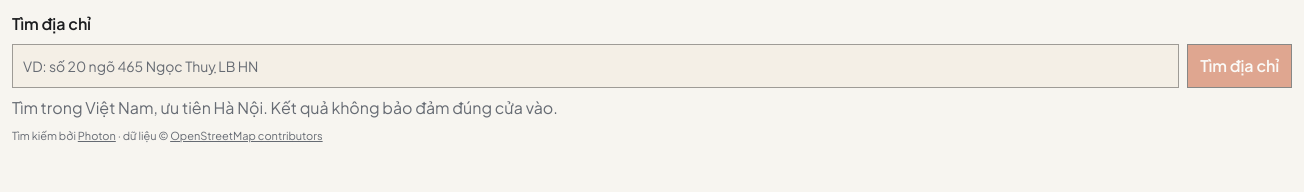
it: shows provider failure and allows retry without selecting anything
The image size is (1304, 192).
In the field labelled "Tìm địa chỉ": [596, 66] box [12, 44, 1179, 88], type "Ngọc Thụy"
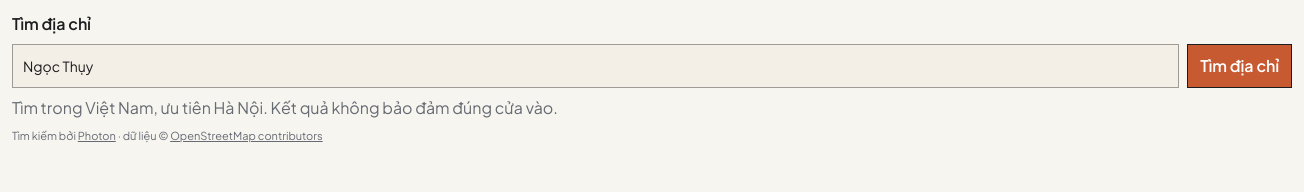
Click the button "Tìm địa chỉ": [1240, 66] box [1187, 44, 1292, 88]
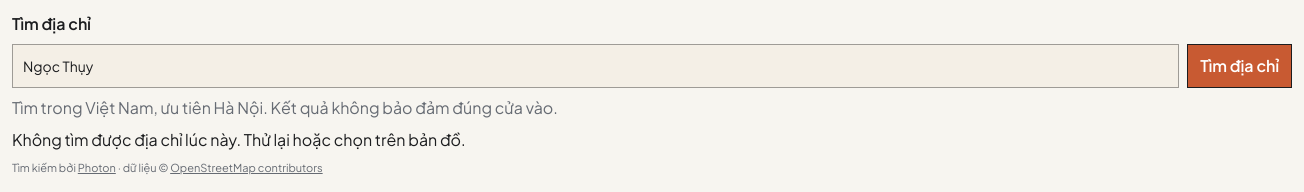
Expected: the button "Tìm địa chỉ" is enabled, [1187, 44, 1292, 88]
Expected: the message shows "Không tìm được", [12, 129, 466, 150]
